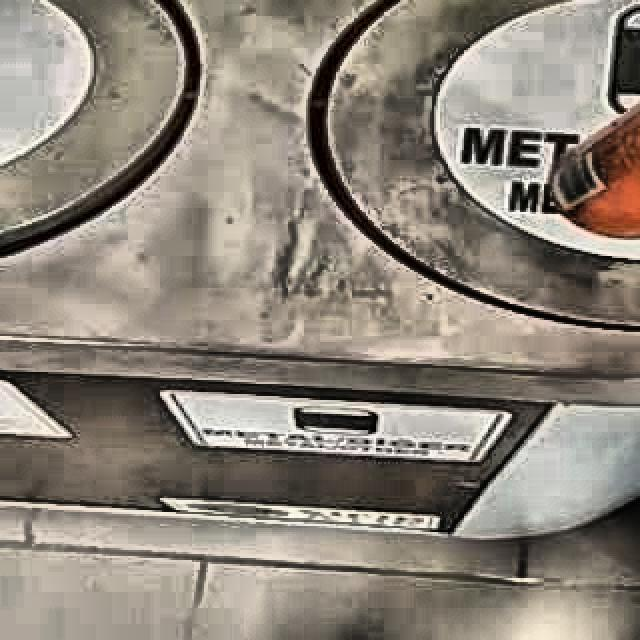metal: (549, 103, 640, 239)
